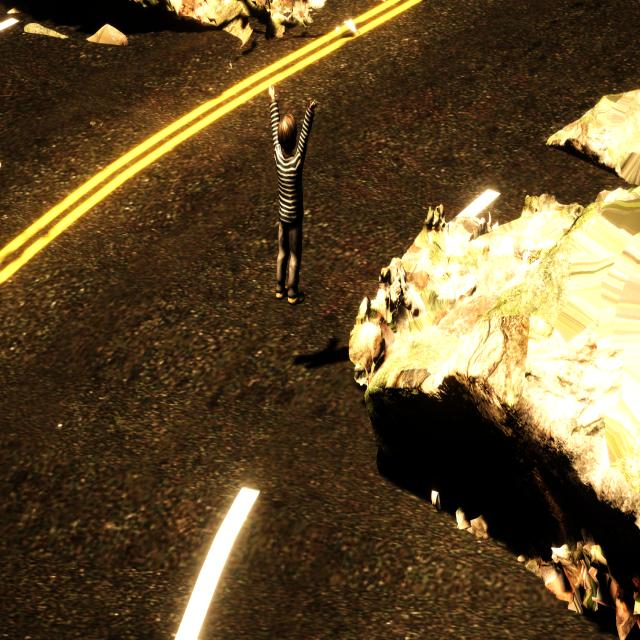Human: (264, 75, 321, 303)
